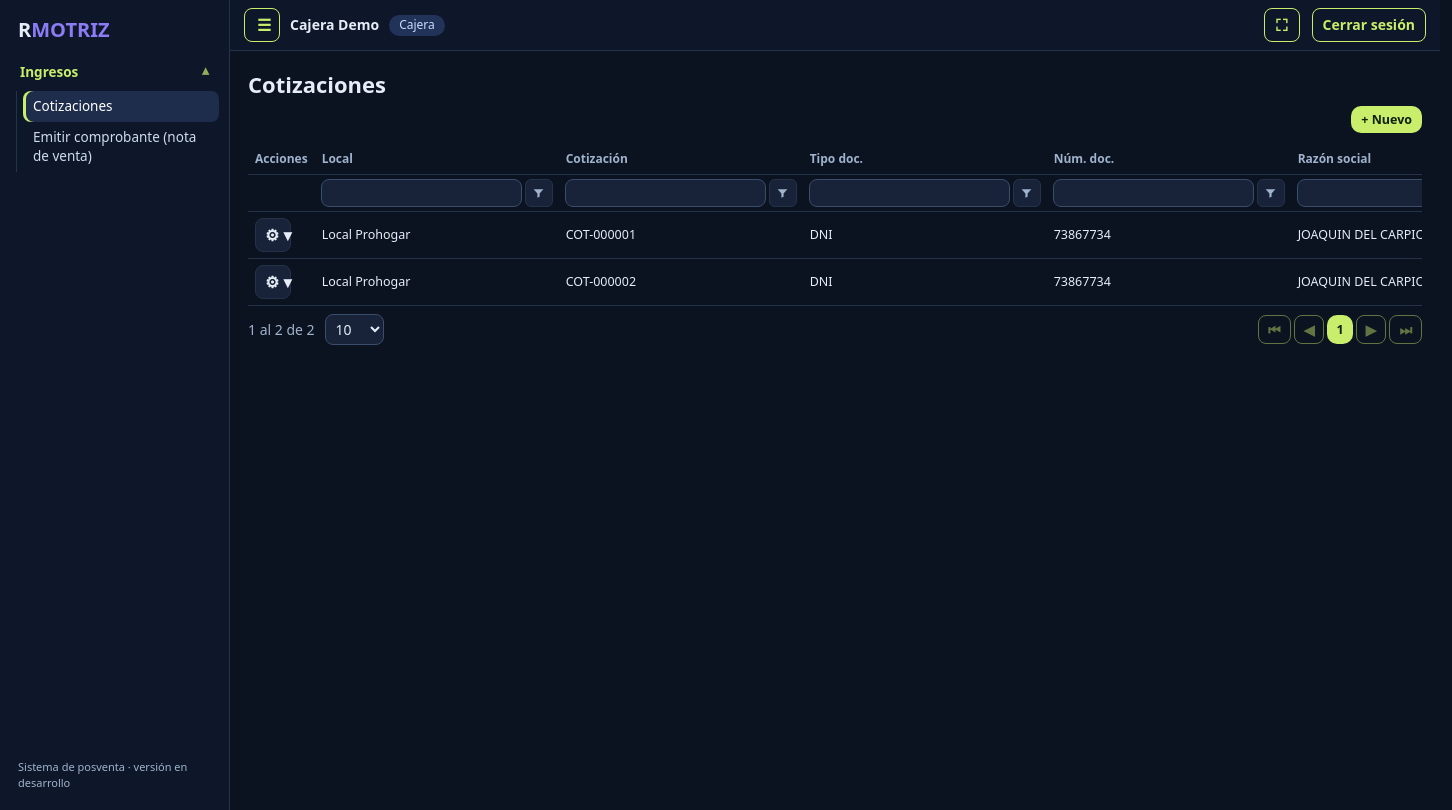
Test: Cotizaciones: lista con estado vigente/vencida y acciones PDF, Ticket y Eliminar (sin Anular)
Click the button named "Acciones".
click(273, 235)  # box [255,218,291,252]
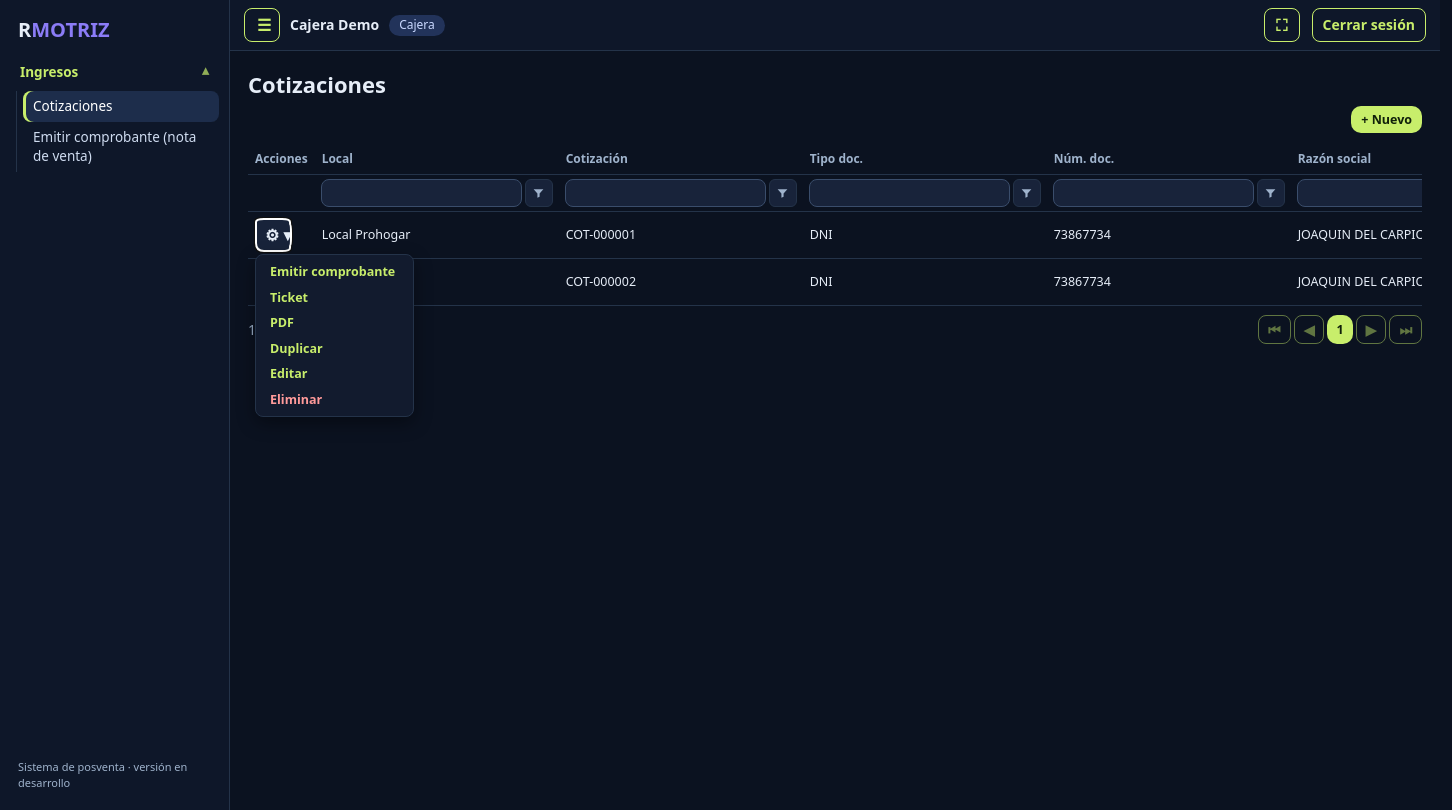
Check: the button "Ticket" is shown, box [260,285,405,310]
Check: the button "PDF" is shown, box [260,310,405,336]
Check: the button "Eliminar" is shown, box [260,387,405,412]
